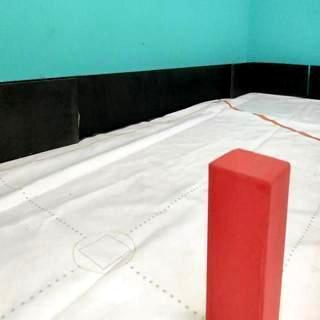redbox: (204, 147, 290, 320)
